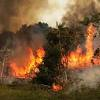fire: (22, 47, 44, 78), (67, 43, 94, 67)
smoke: (39, 3, 90, 28)
